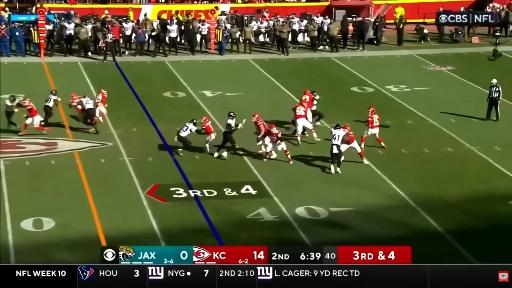Helmet: (368, 106, 376, 115), (252, 114, 260, 121), (201, 116, 209, 123), (9, 95, 16, 103), (269, 124, 276, 132), (23, 98, 30, 105), (99, 90, 107, 96), (190, 119, 197, 125), (228, 112, 235, 118), (342, 125, 349, 130), (300, 102, 307, 107), (303, 90, 310, 95), (334, 124, 341, 129), (51, 90, 57, 95), (71, 93, 77, 98), (294, 104, 299, 109), (310, 91, 316, 95), (124, 18, 130, 22), (83, 95, 89, 98), (23, 98, 29, 101)
Jersey: (294, 105, 310, 120), (179, 123, 196, 137), (264, 130, 282, 143), (331, 129, 345, 145), (301, 92, 313, 108), (225, 118, 236, 134), (255, 119, 267, 133), (343, 130, 355, 144), (367, 114, 379, 128), (26, 103, 38, 117), (203, 120, 214, 134), (45, 95, 57, 107), (167, 24, 178, 37), (82, 98, 94, 109), (123, 23, 134, 35), (6, 100, 17, 111), (199, 24, 210, 35), (311, 95, 319, 110), (96, 94, 106, 105), (70, 96, 81, 104)
Player: (214, 112, 245, 159), (258, 124, 292, 163), (19, 99, 50, 135), (361, 106, 386, 150), (294, 103, 320, 145), (341, 126, 369, 164), (175, 119, 197, 155), (79, 95, 99, 134), (331, 124, 346, 173), (42, 90, 60, 125), (5, 95, 21, 129), (291, 102, 307, 135), (202, 116, 215, 152), (252, 114, 268, 141), (96, 90, 107, 122), (69, 94, 82, 121), (300, 90, 313, 108)
